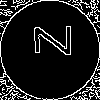Z: (25, 25, 71, 56)
